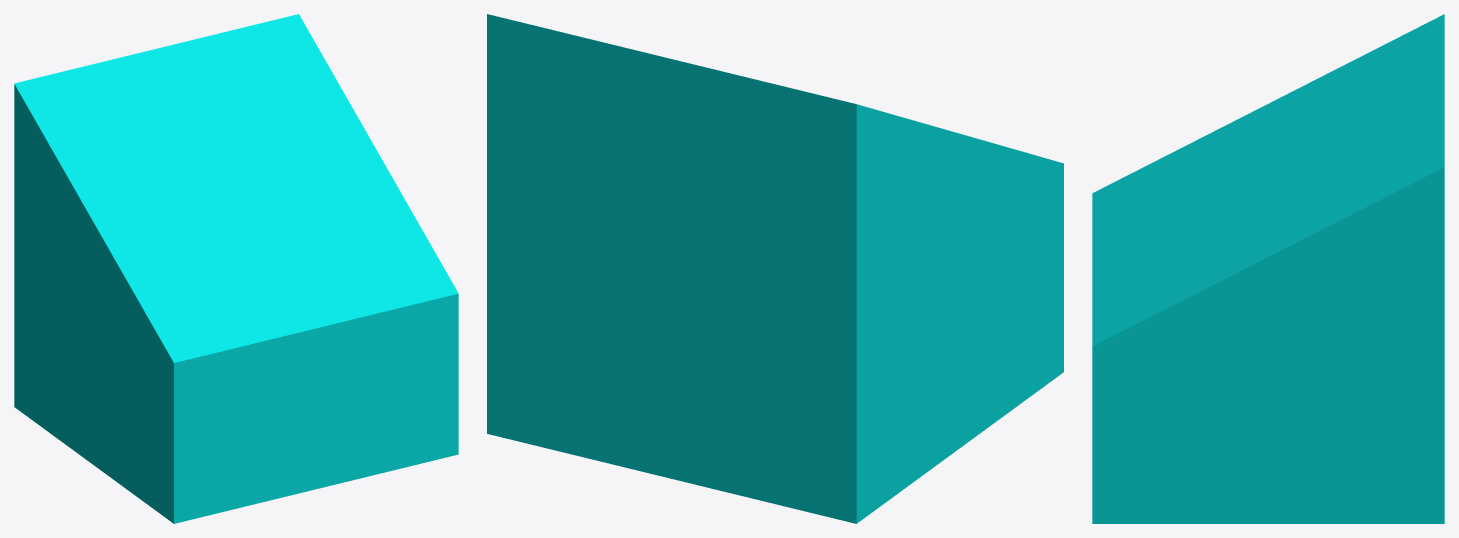
The model's file is SM_Env_Rock_Stairs_01_Collision.fbx.
The picture shows the model from 3 angles, left to right: view 1: azimuth 30°, elevation 25°; view 2: azimuth 150°, elevation 25°; view 3: azimuth 270°, elevation 25°; orthographic projection. The views are drawn at different scales.
Parts seen in each view (by area): view 1: SM_Env_Rock_Stairs_01_Collision; view 2: SM_Env_Rock_Stairs_01_Collision; view 3: SM_Env_Rock_Stairs_01_Collision.
Part boxes in pixels (bbox=[...]): SM_Env_Rock_Stairs_01_Collision: bbox=[14, 14, 458, 523]; SM_Env_Rock_Stairs_01_Collision: bbox=[487, 14, 1063, 523]; SM_Env_Rock_Stairs_01_Collision: bbox=[1092, 14, 1444, 523].
Size of the model in its own units: 261 by 283 by 253.
